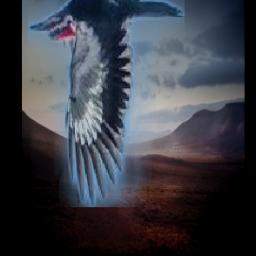Woodpecker: (28, 0, 185, 208)
